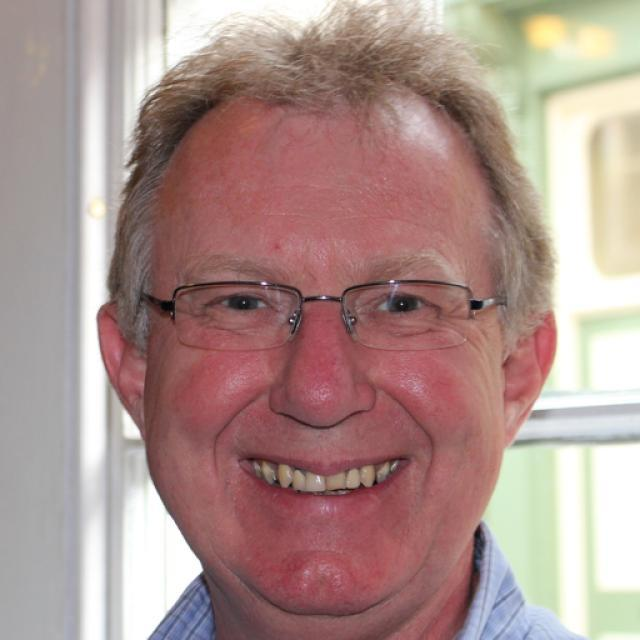happy: (142, 101, 510, 621)
